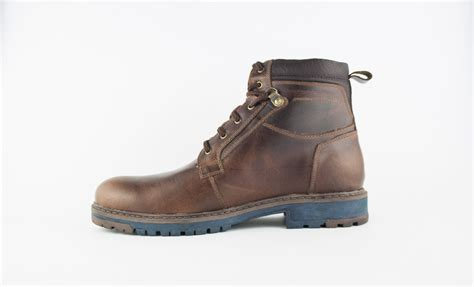cuero: (93, 57, 372, 218)
